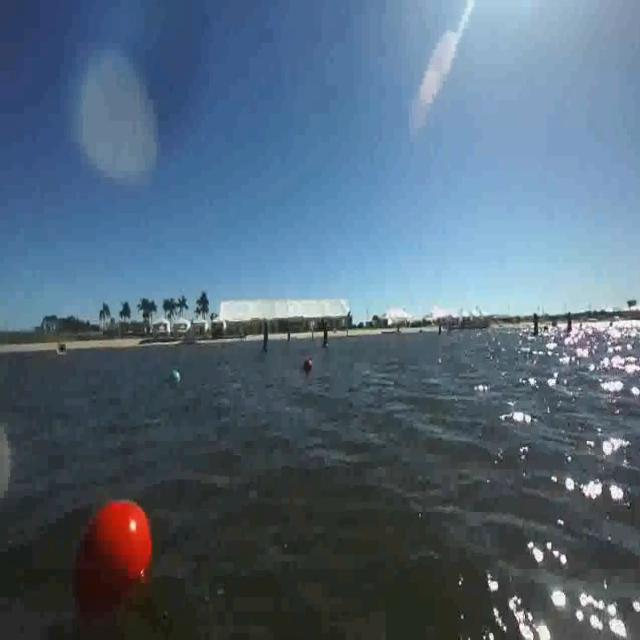green-buoy: (168, 370, 181, 386)
green-column-buoy: (262, 322, 273, 354)
red-buoy: (66, 492, 164, 633), (302, 354, 312, 376)
